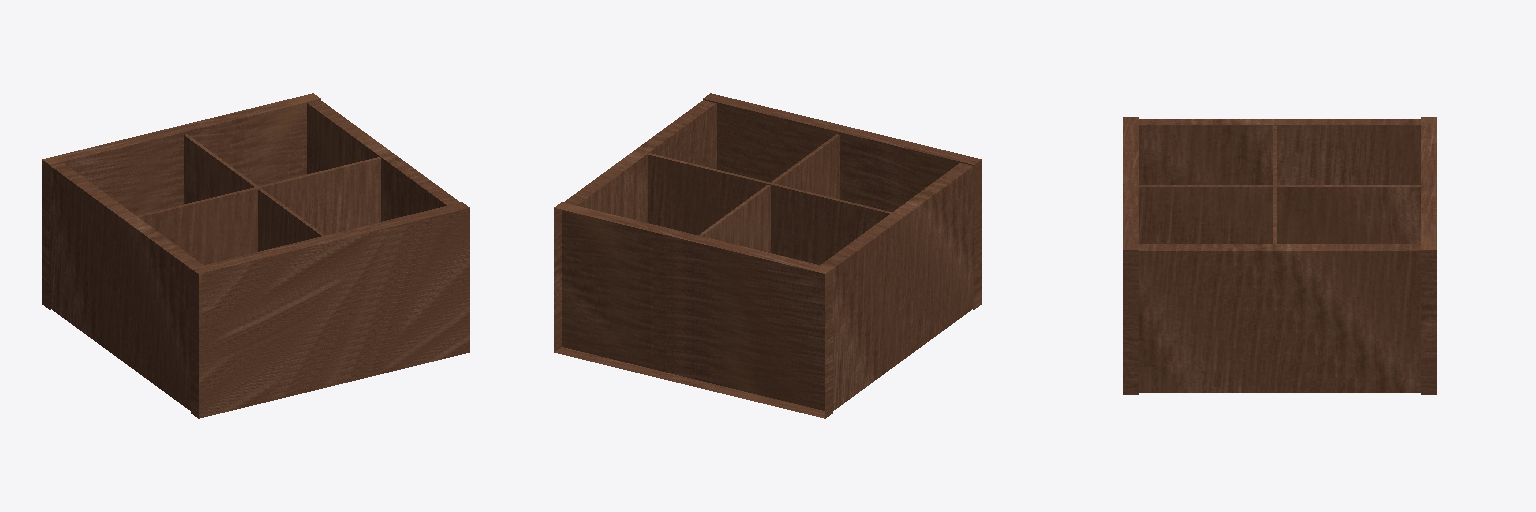
3 views of the same model, side by side, from view 1: azimuth 30°, elevation 25°; view 2: azimuth 150°, elevation 25°; view 3: azimuth 270°, elevation 25° (orthographic).
Parts seen in each view (by area): view 1: SquareShelf; view 2: SquareShelf; view 3: SquareShelf.
Part boxes in pixels (x1,y1,x2,y2): SquareShelf: (42,93,469,418); SquareShelf: (554,93,981,418); SquareShelf: (1123,117,1436,394).
Size of the model in its own units: 0.7687 by 0.3919 by 0.7682.
1 materials, 1 textured.